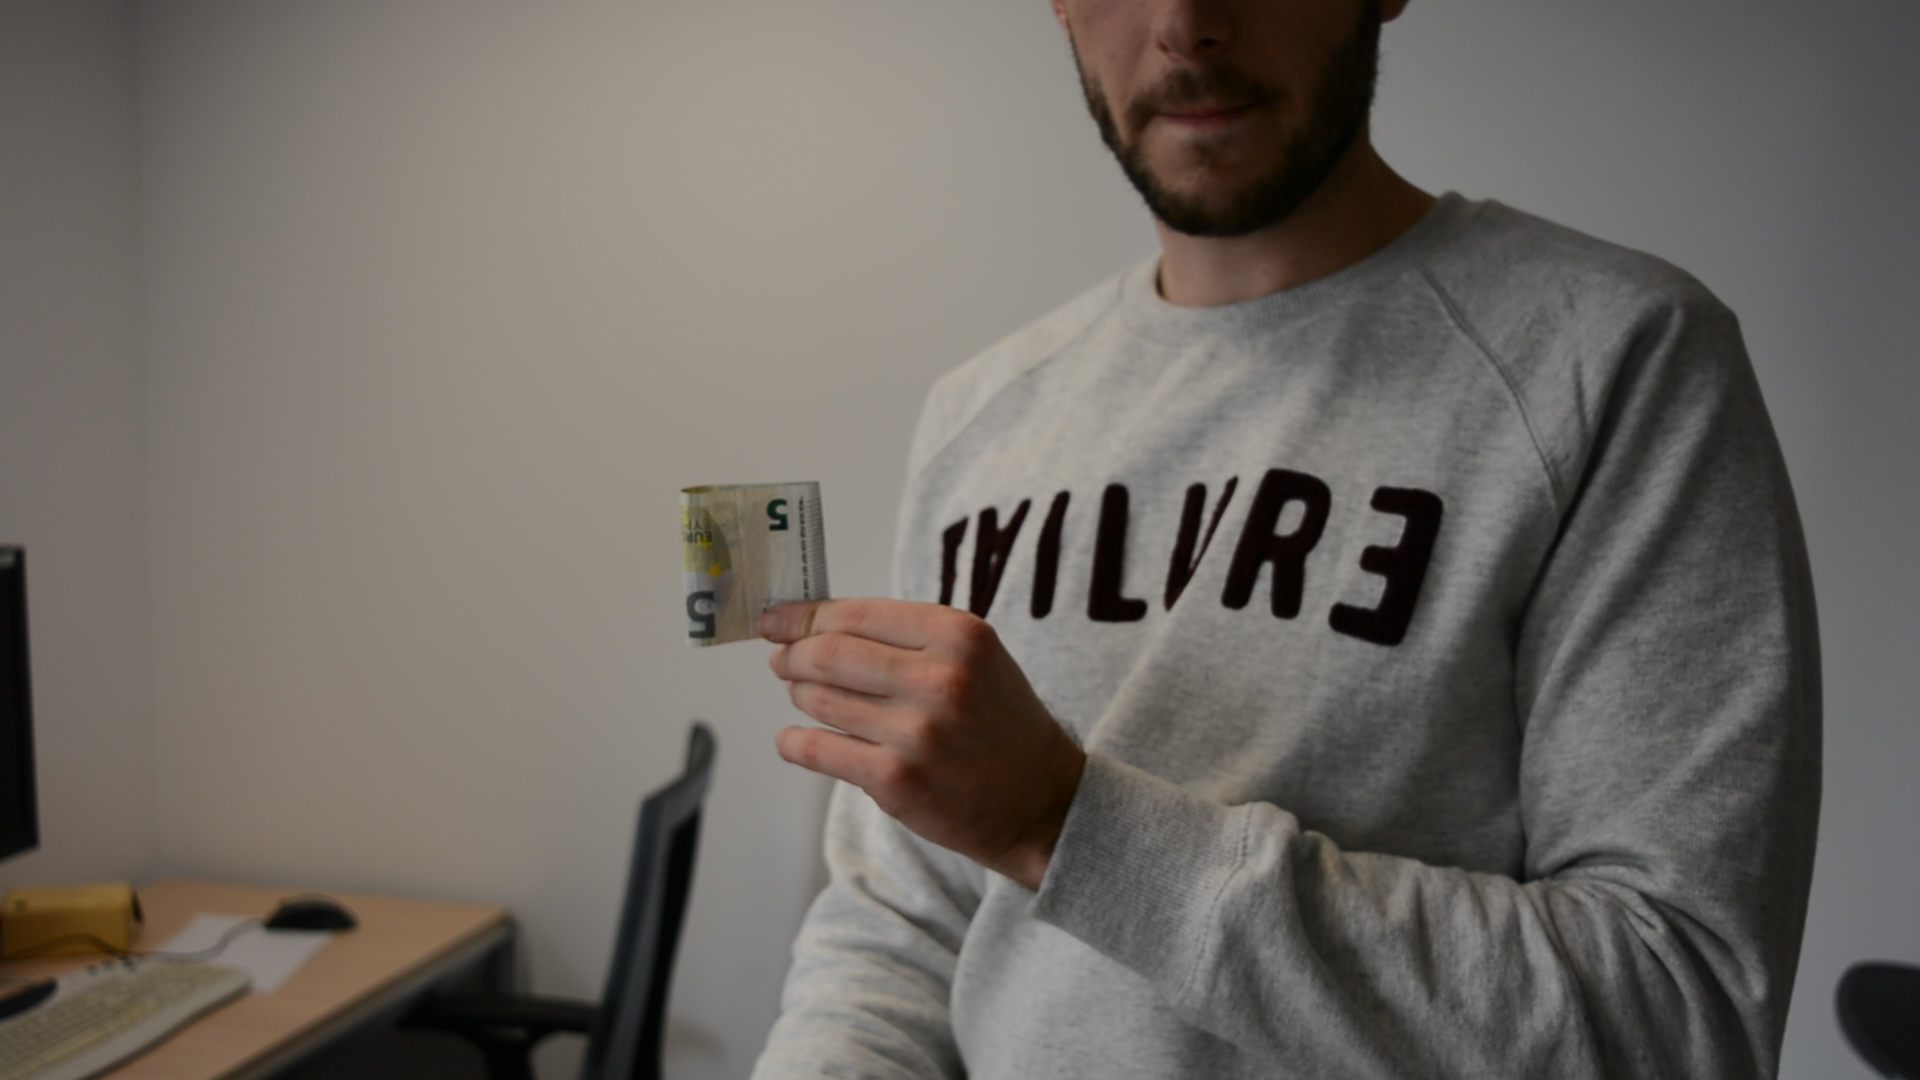billete: (679, 479, 832, 649)
